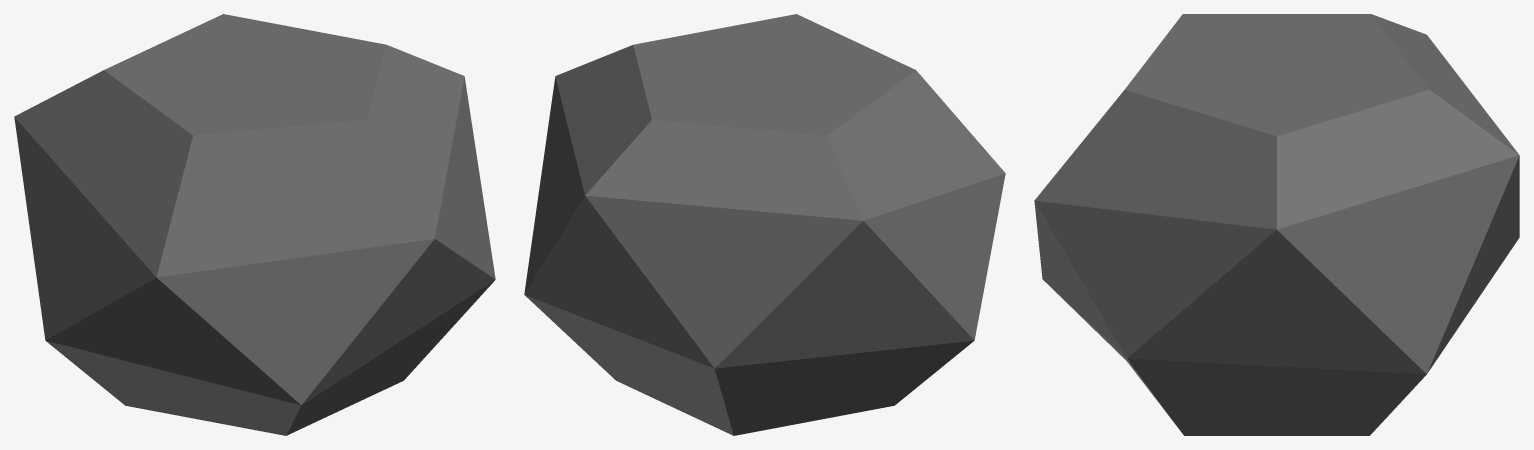
Rendered from rock_3b_001.fbx.
3 views of the same model, side by side, from view 1: azimuth 30°, elevation 25°; view 2: azimuth 150°, elevation 25°; view 3: azimuth 270°, elevation 25° (orthographic). The views are drawn at different scales.
Parts seen in each view (by area): view 1: rock_3b.001; view 2: rock_3b.001; view 3: rock_3b.001.
Boxes of the visible parts, <box> form: rock_3b.001: <box>14,14,495,435</box>; rock_3b.001: <box>524,14,1005,435</box>; rock_3b.001: <box>1034,14,1519,435</box>.
Size of the model in its own units: 449 by 305 by 427.
